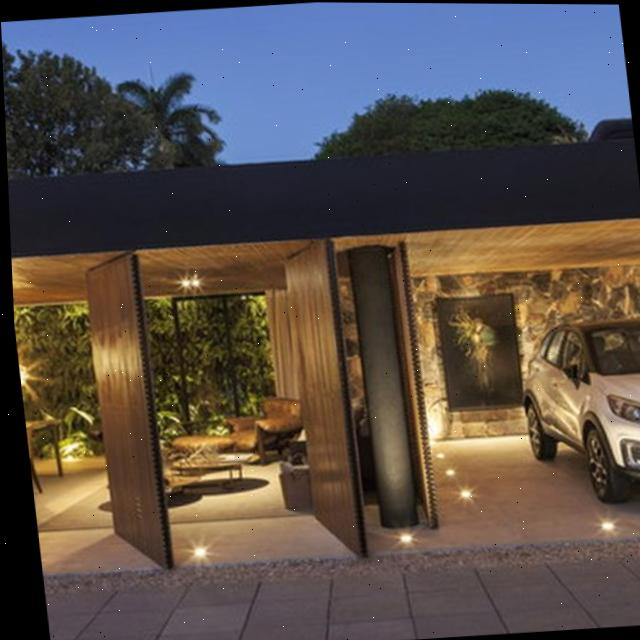building: (6, 134, 640, 601)
